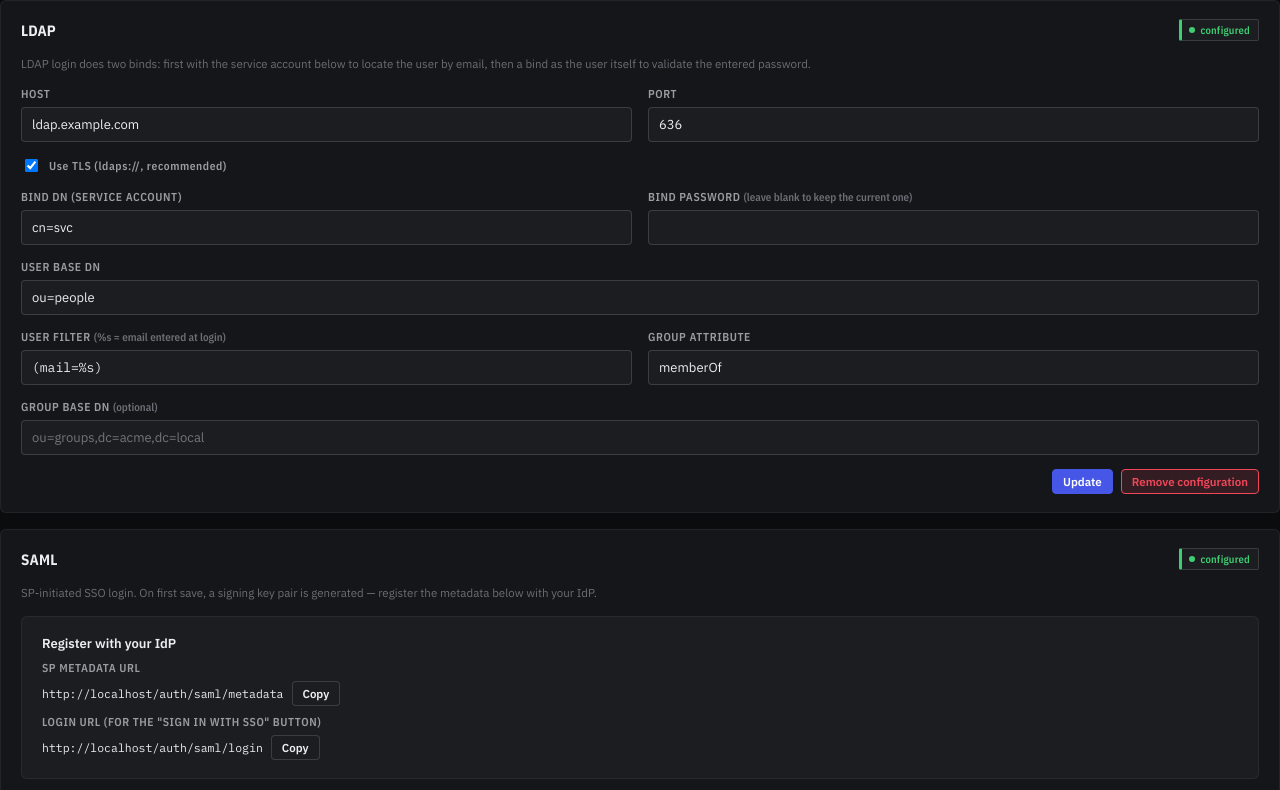
Test case: IdentityProvidersPanel › shows a Remove button once configured, and removing clears the form back to Configure
Click the button "Remove configuration" at (1190, 482), box [1121,469,1259,494]
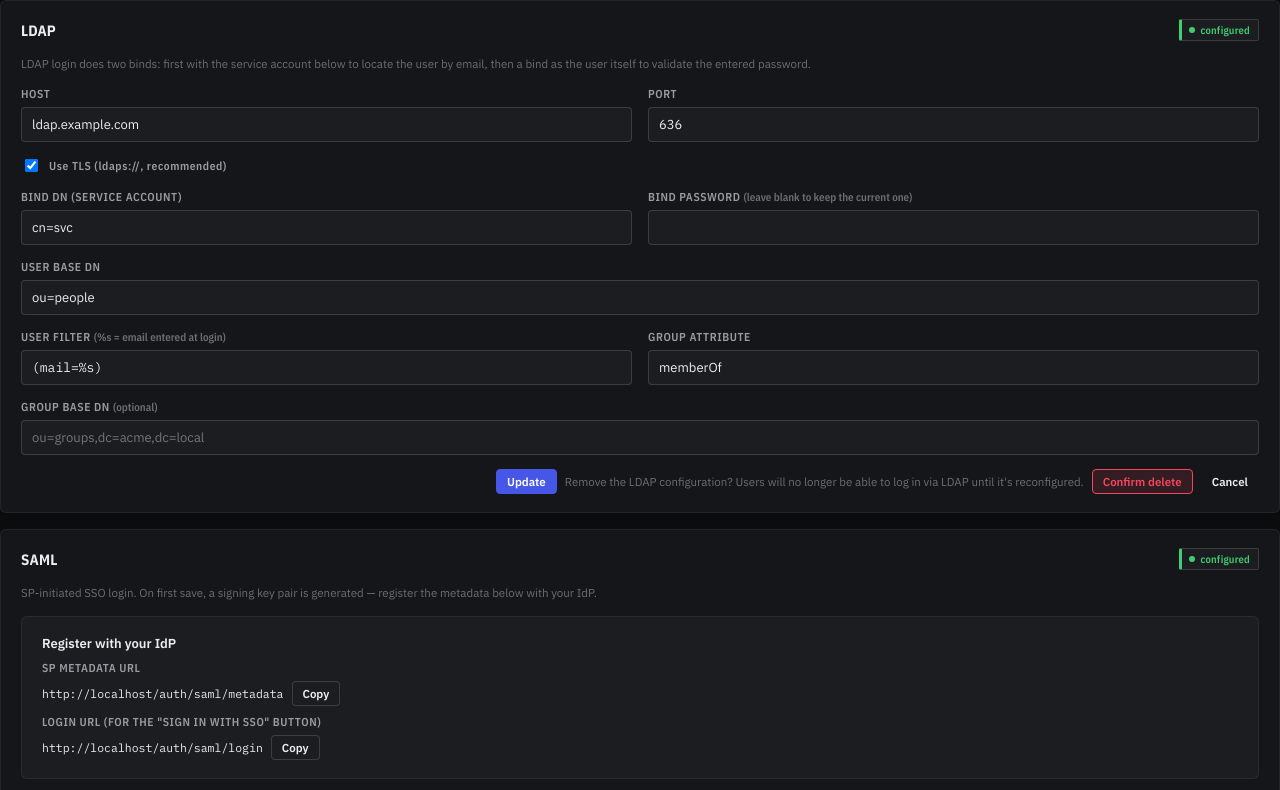
Click the button "Confirm delete" at (1142, 482), box [1092,469,1193,494]
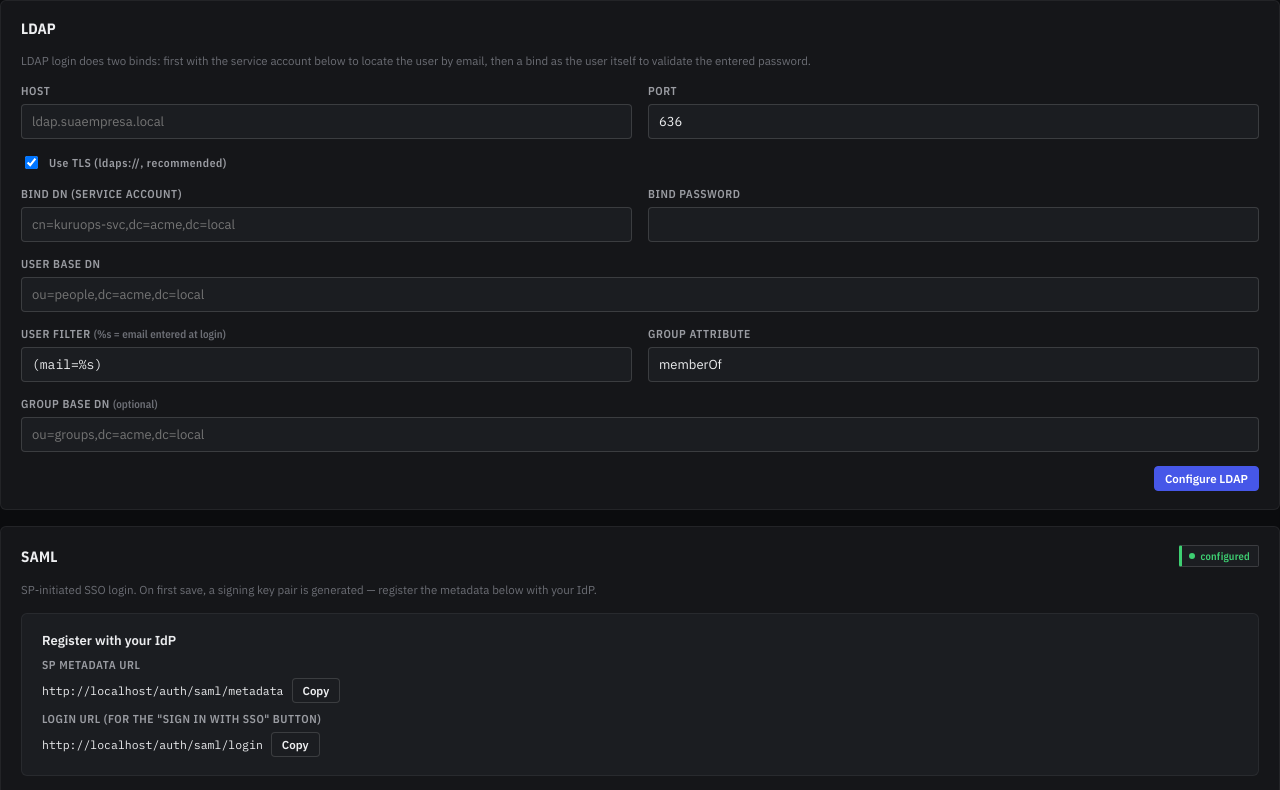
Expected: the button "Configure LDAP" is shown, [1154,466,1259,491]
